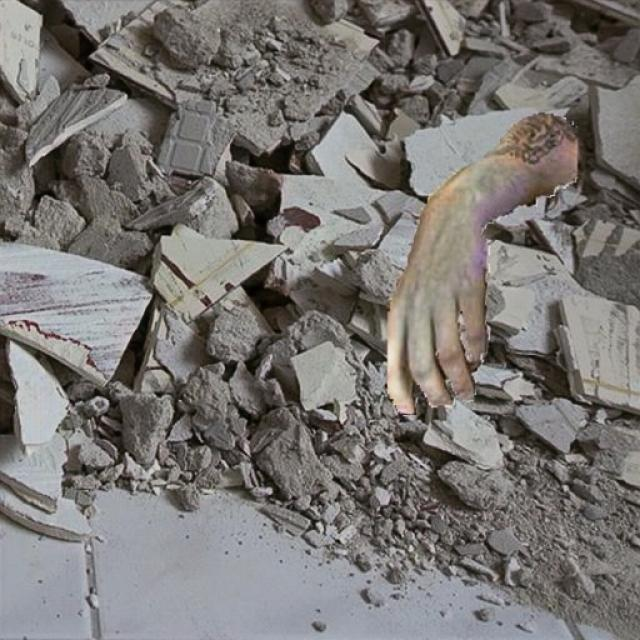Person in Rubble: (388, 112, 576, 414)
